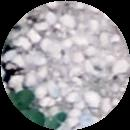Basil: (18, 106, 48, 127), (9, 88, 35, 110), (45, 110, 71, 130)
